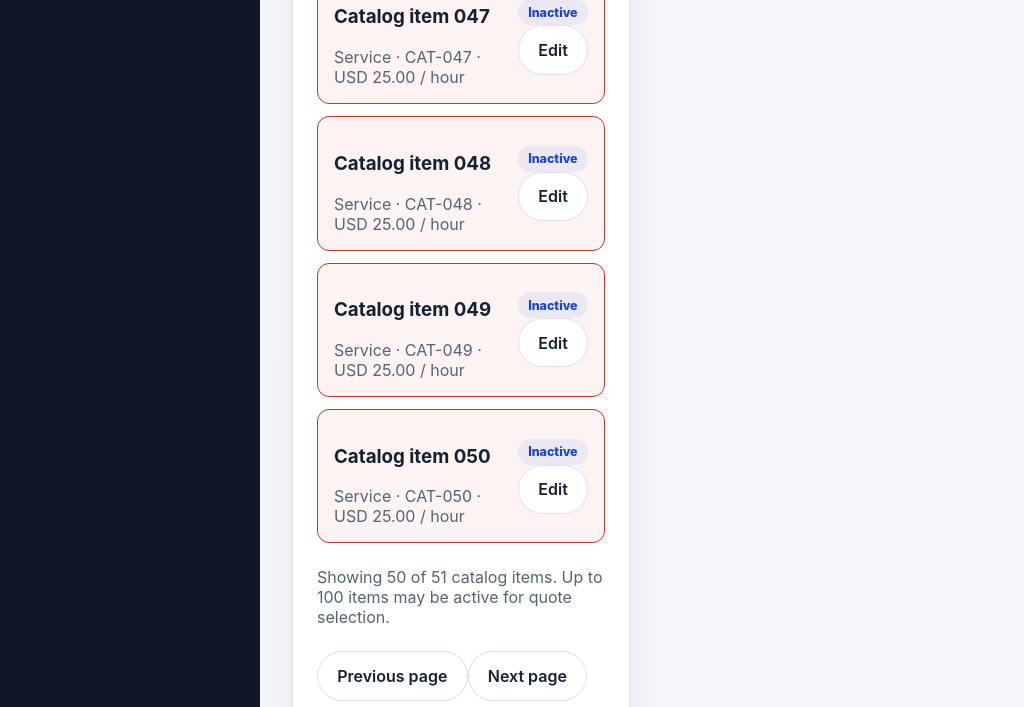
Test: settings product catalog route › continues, searches, and filters the bounded catalog
(page scrolled)
Expected: the text "Showing 50 of 51 catalog items" is shown, 317,567 -> 605,627
Expected: the heading "Catalog item 051" is not shown
Click the button "Next page" at (527, 676), box 468,651 -> 587,701
(page scrolled)
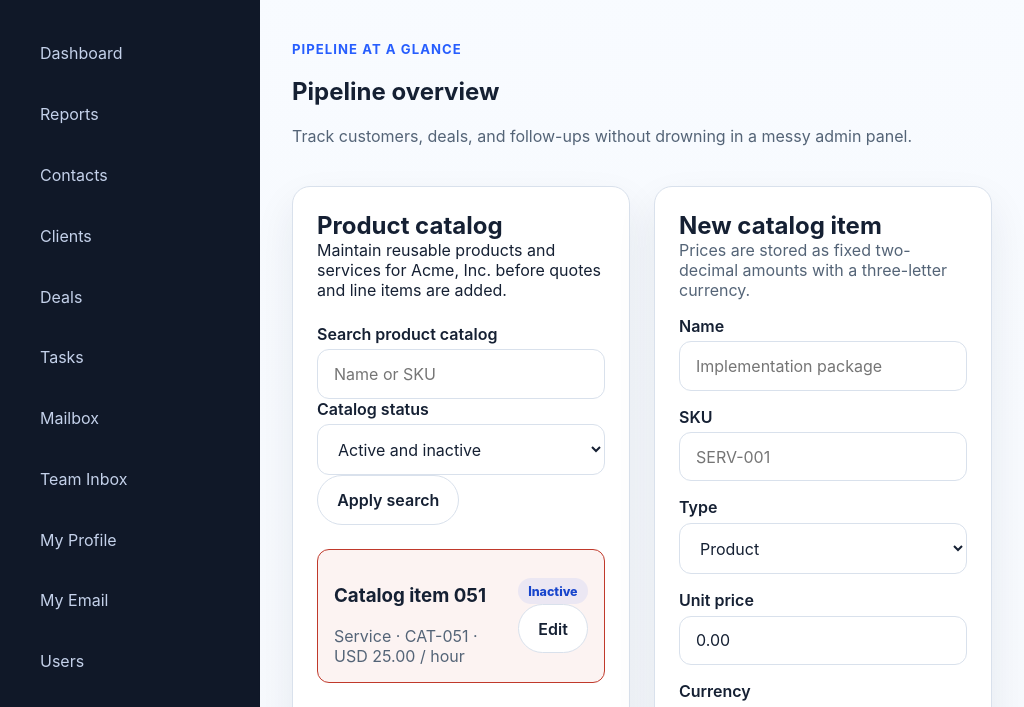
Expected: the heading "Catalog item 051" is shown, 334,584 -> 492,607
Type "Catalog item 011" into the field labelled "Search product catalog" at (461, 374), box 317,349 -> 605,399
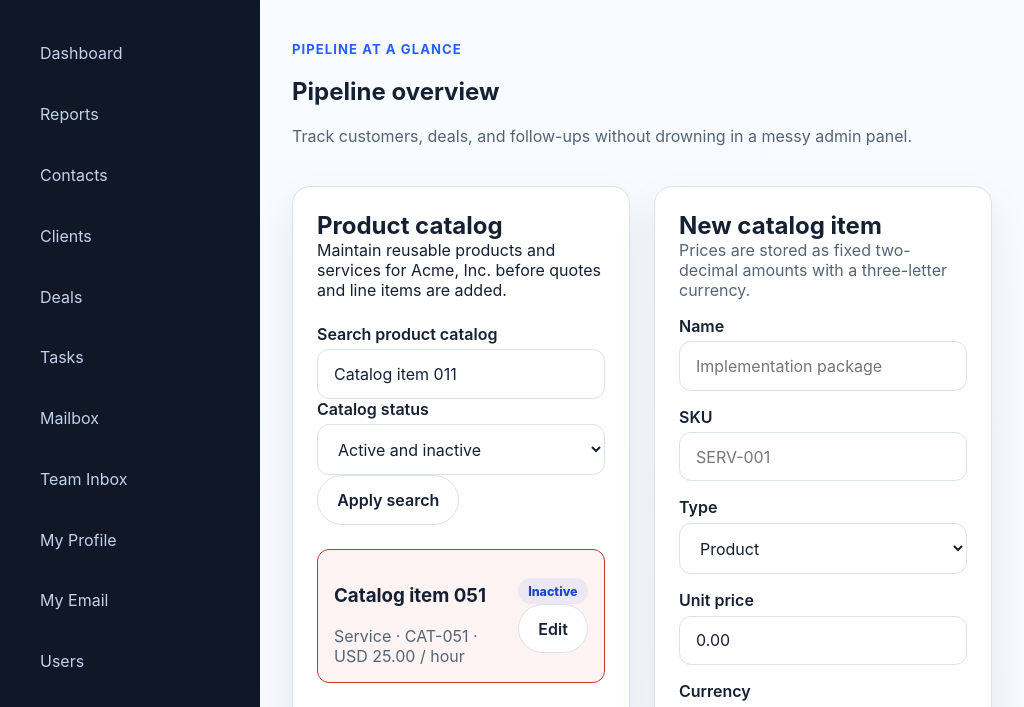
Click the button "Apply search" at (388, 500), box 317,475 -> 460,525
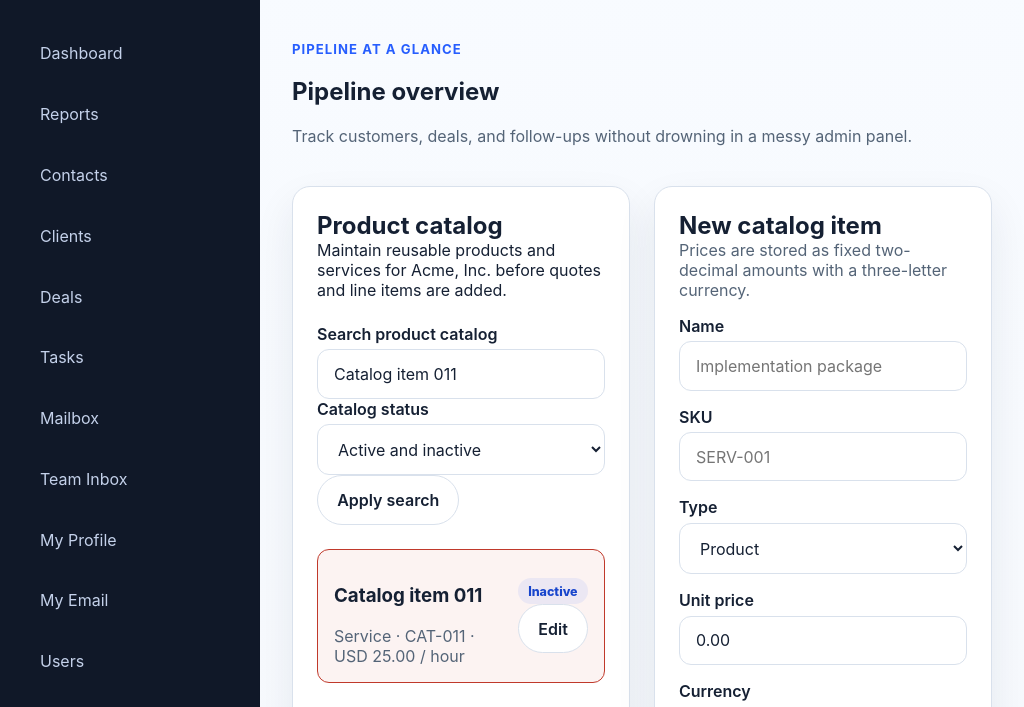
Expected: the heading "Catalog item 011" is shown, 334,584 -> 492,607
Select "Active" in the dropdown labelled "Catalog status" at (461, 450), box 317,424 -> 605,475
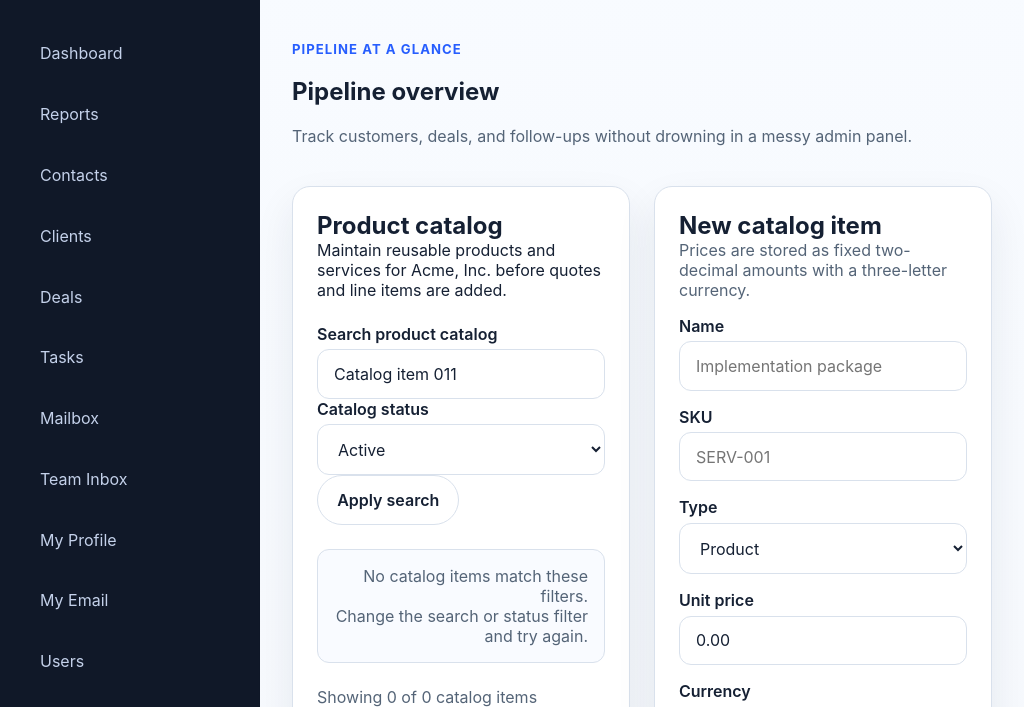
Expected: the text "No catalog items match these filters." is shown, 334,566 -> 588,606
